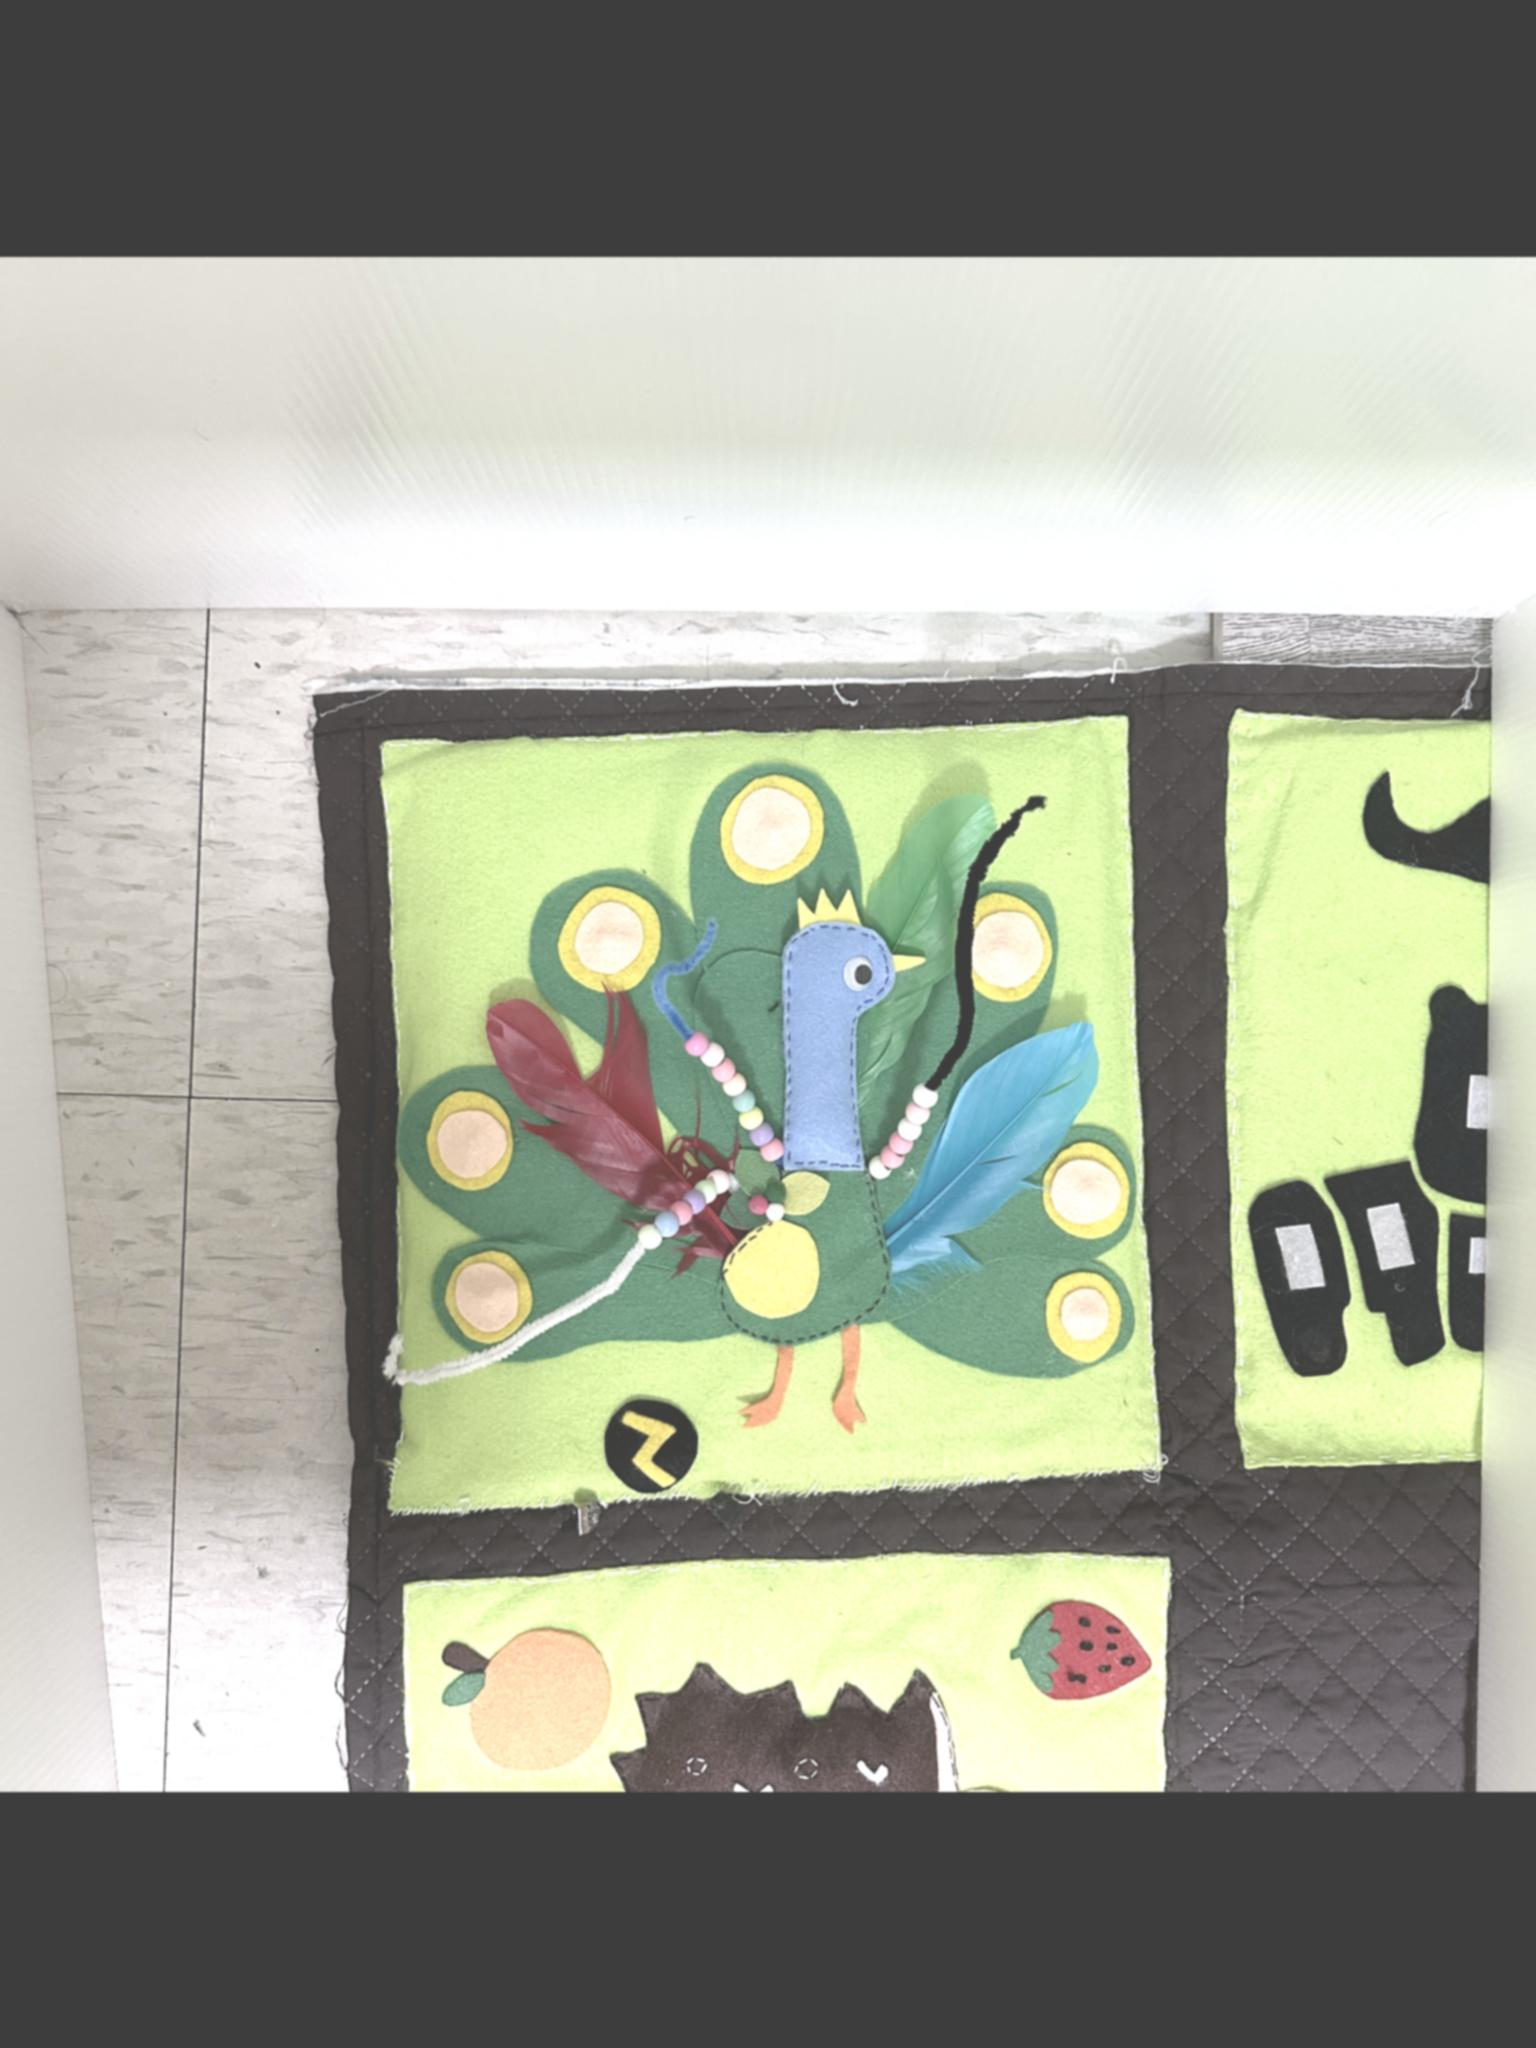bead: (682, 1029, 708, 1059), (636, 1222, 665, 1248), (703, 1042, 729, 1069), (655, 1209, 679, 1237), (670, 1200, 695, 1224), (713, 1056, 737, 1082), (878, 1145, 904, 1169), (913, 1082, 937, 1106), (708, 1166, 731, 1192), (723, 1074, 749, 1097), (866, 1153, 889, 1179), (682, 1187, 705, 1211), (739, 1108, 763, 1130), (907, 1101, 929, 1126), (729, 1089, 755, 1109), (750, 1126, 778, 1145), (889, 1130, 912, 1153), (900, 1114, 921, 1138), (695, 1179, 716, 1201), (760, 1140, 786, 1158)
